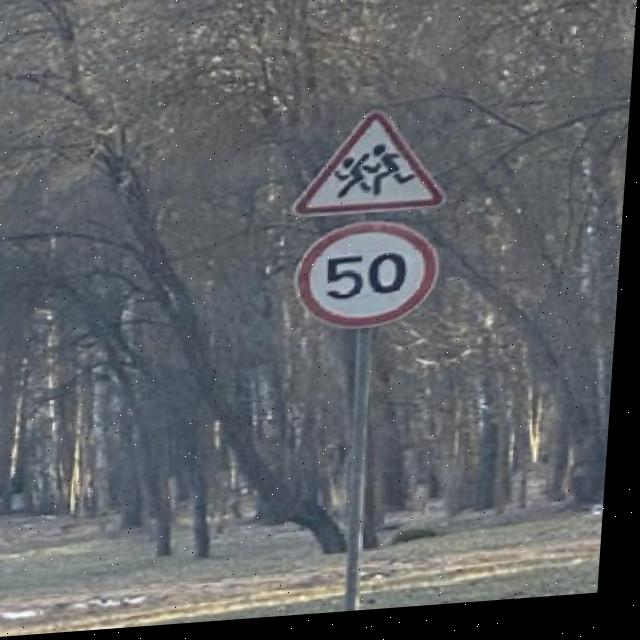Speed limit 50: (293, 220, 448, 342)
